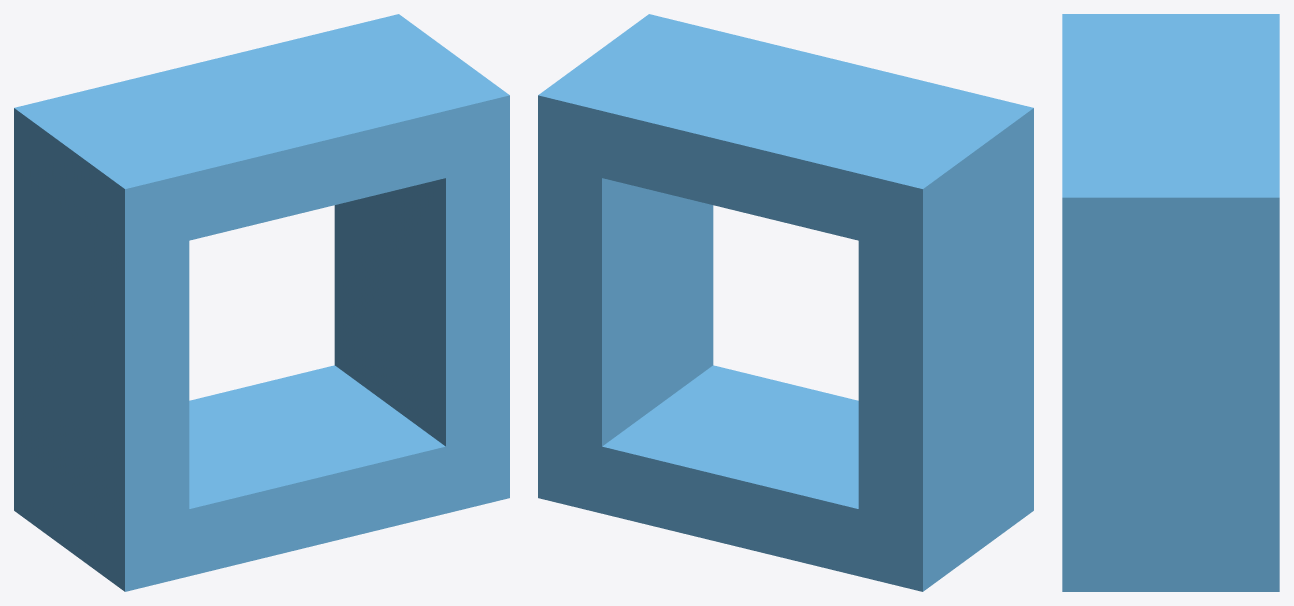
File: window.glb
3 views of the same model, side by side, from view 1: azimuth 30°, elevation 25°; view 2: azimuth 150°, elevation 25°; view 3: azimuth 270°, elevation 25° (orthographic). The views are drawn at different scales.
Parts seen in each view (by area): view 1: Window; view 2: Window; view 3: Window.
Part boxes in pixels (bbox=[...]): Window: bbox=[14, 14, 509, 591]; Window: bbox=[538, 14, 1033, 591]; Window: bbox=[1062, 14, 1279, 591].
Size of the model in its own units: 6 by 6 by 3.
